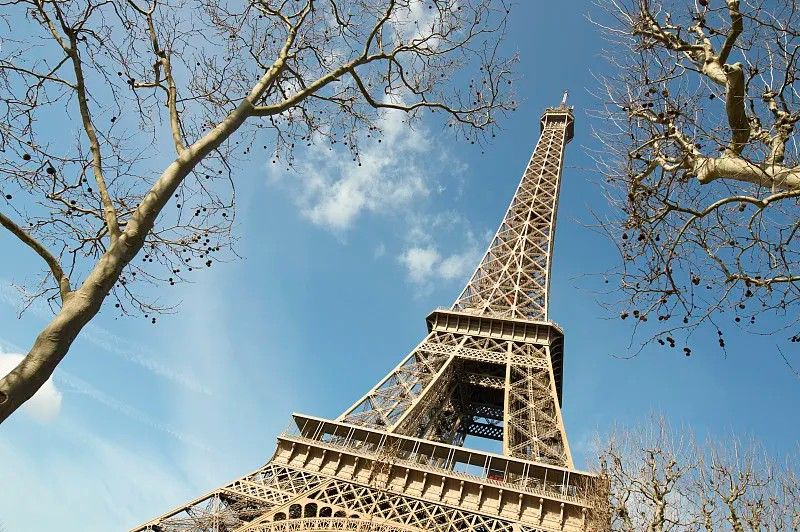Eiffel: (127, 89, 613, 532)
